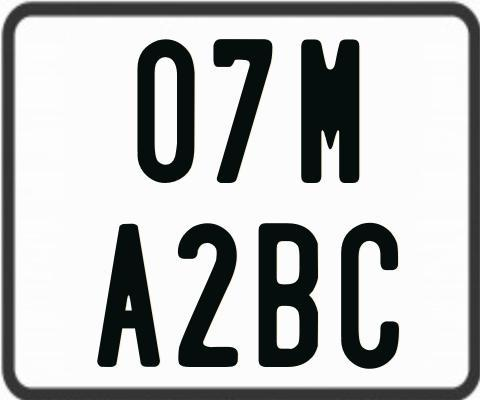0: (134, 37, 196, 183)
2: (177, 222, 238, 369)
7: (211, 38, 274, 184)
A: (97, 223, 160, 367)
B: (258, 221, 322, 366)
C: (338, 220, 399, 372)
M: (299, 38, 358, 186)
